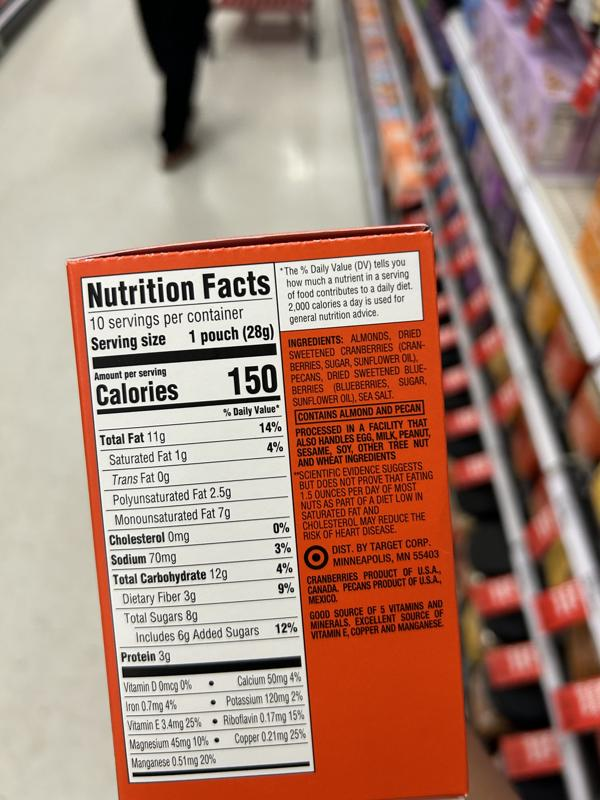ingredients: (285, 326, 428, 408)
